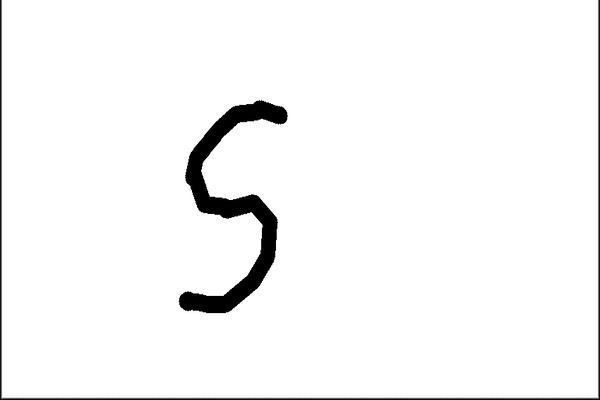S: (172, 86, 293, 321)
